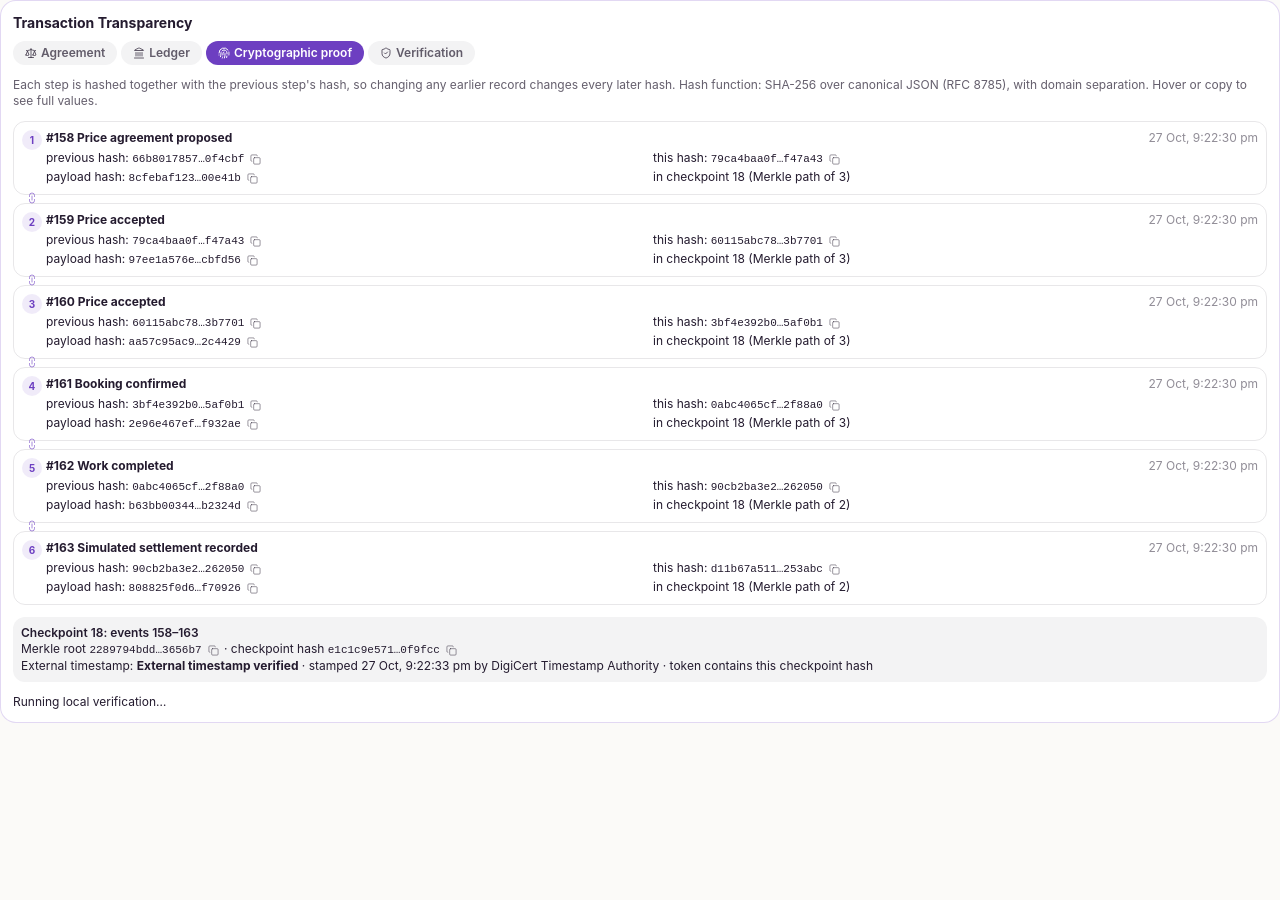
Transaction Transparency explorer (rendered from a real exported receipt) › Proof view lists the chain with truncated, copyable hashes and the honest anchor state
Check: the number of list items with test id "proof-event" is 6, box x1=13 y1=121 x2=1267 y2=195; x1=13 y1=203 x2=1267 y2=277; x1=13 y1=285 x2=1267 y2=359; x1=13 y1=367 x2=1267 y2=441; x1=13 y1=449 x2=1267 y2=523; x1=13 y1=531 x2=1267 y2=605
Check: the text with test id "hash-short" shows "…", box x1=132 y1=151 x2=244 y2=167
Click the button named "Copy full previous hash" next to "66b8017857…0f4cbf" at (256, 159), box x1=248 y1=152 x2=263 y2=166
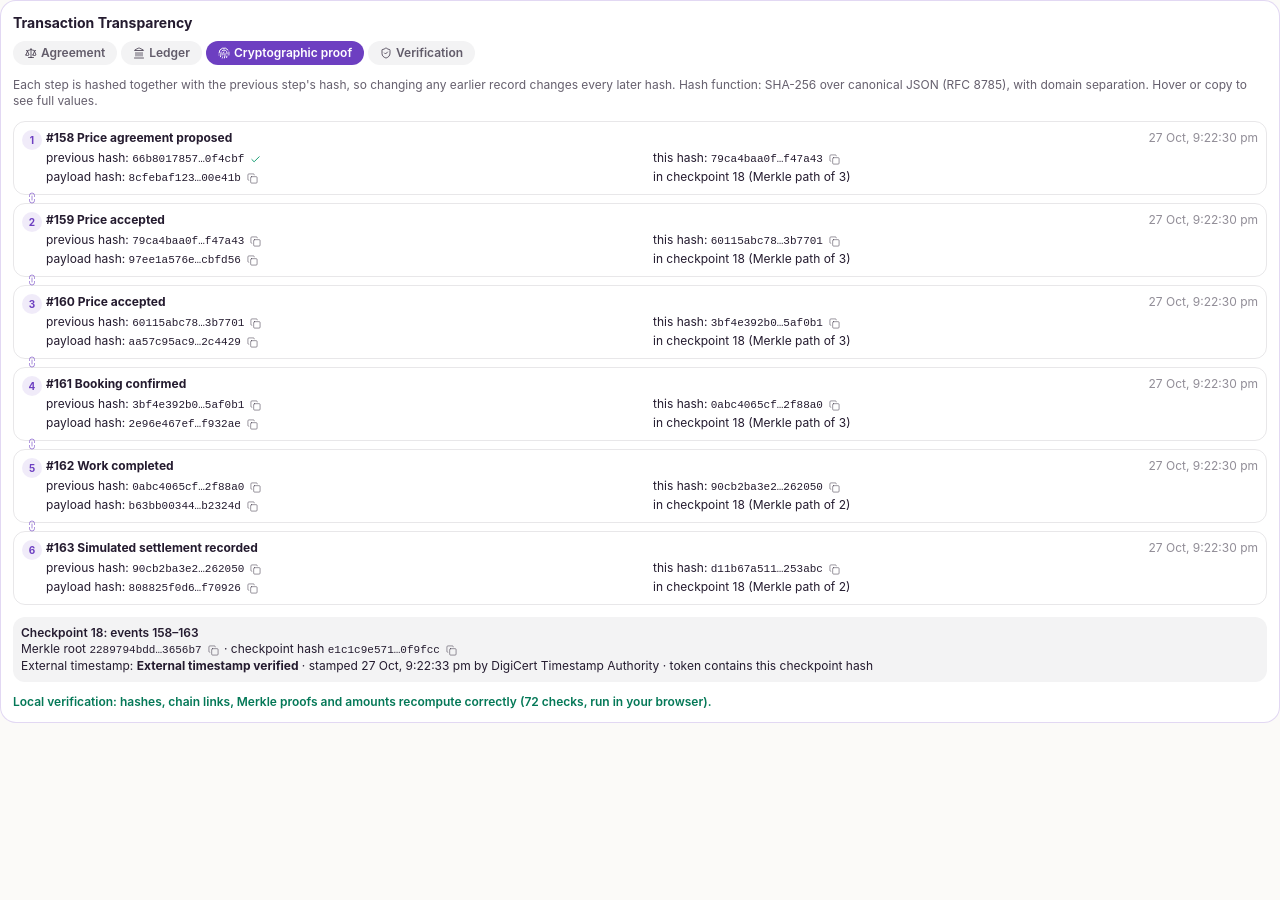
Check: the element with test id "anchor-line" shows "External timestamp verified", box x1=137 y1=658 x2=298 y2=673
Check: the element with test id "local-result" shows "recompute correctly", box x1=13 y1=694 x2=524 y2=709
